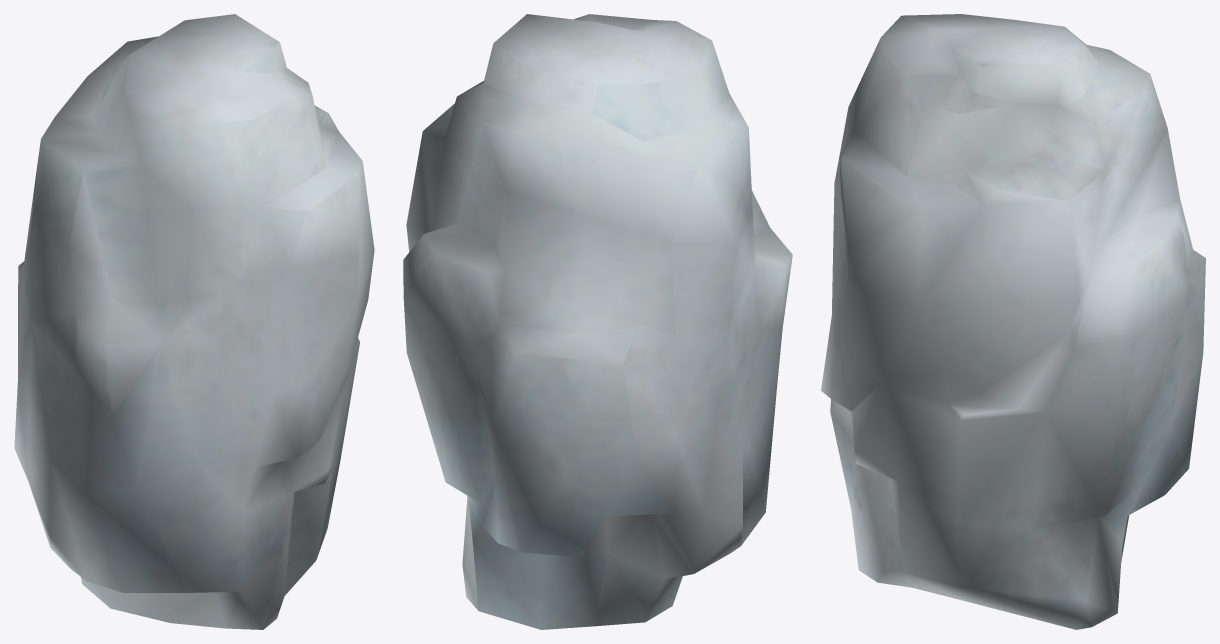
The model's file is P_RockSpire_Rock20.obj.
The picture shows the model from 3 angles, left to right: view 1: azimuth 30°, elevation 25°; view 2: azimuth 150°, elevation 25°; view 3: azimuth 270°, elevation 25°; orthographic projection. The views are drawn at different scales.
Bounding box in the file's own units: 11.92 × 20.5 × 12.69.
